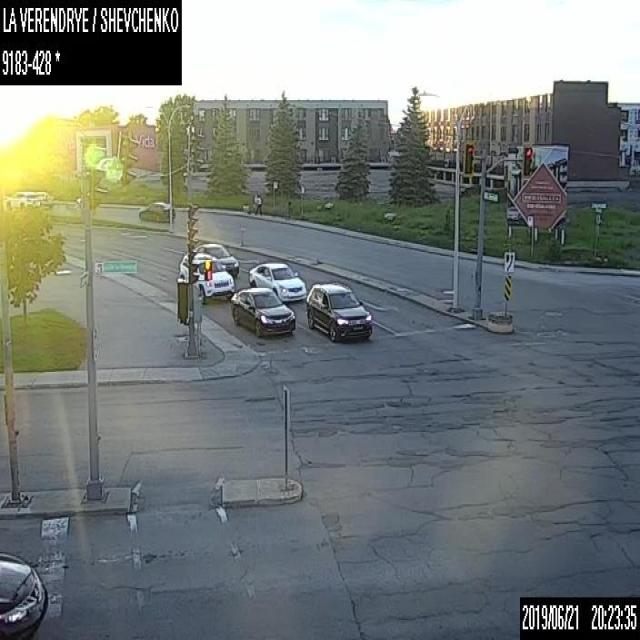pedestrian: (254, 191, 262, 213)
vehicle: (304, 280, 372, 342), (0, 549, 47, 638), (230, 287, 294, 336), (177, 251, 234, 303), (248, 261, 306, 302), (191, 242, 239, 276), (138, 200, 175, 223), (4, 188, 40, 208)
